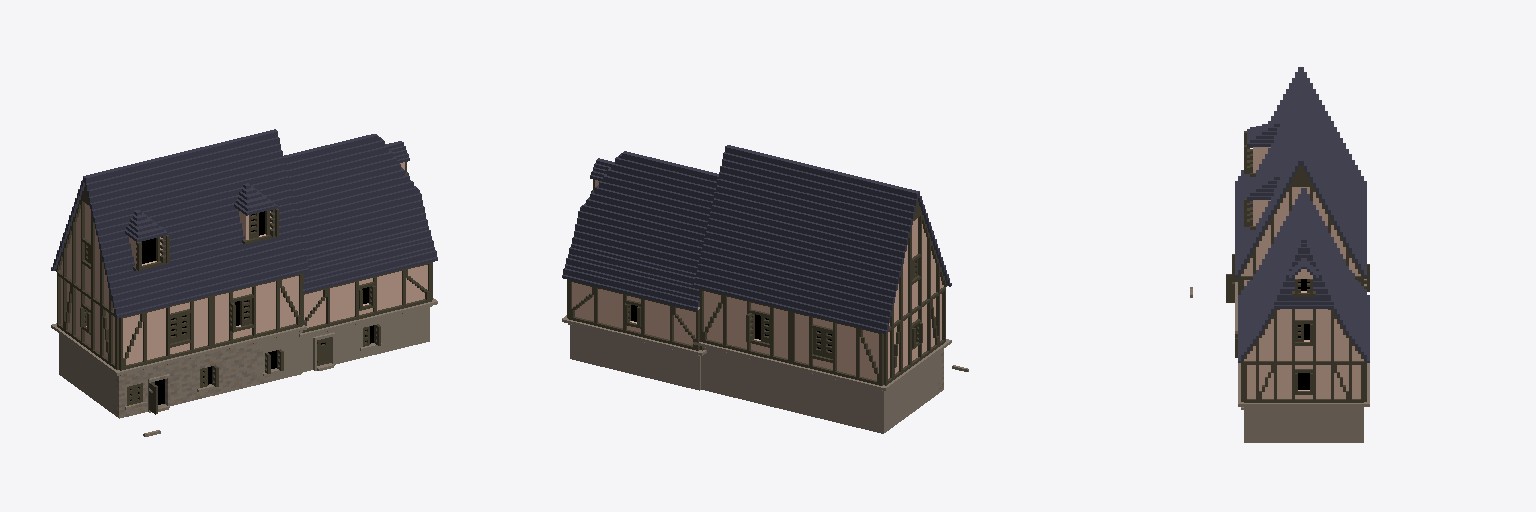
The picture shows the model from 3 angles: view 1: azimuth 30°, elevation 25°; view 2: azimuth 150°, elevation 25°; view 3: azimuth 270°, elevation 25°; orthographic projection.
Parts seen in each view (by area): view 1: object 1; view 2: object 1; view 3: object 1.
Boxes of the visible parts, x1=… form: object 1: x1=51, y1=129, x2=437, y2=436; object 1: x1=562, y1=145, x2=968, y2=433; object 1: x1=1190, y1=67, x2=1369, y2=442.
Bounding box in the file's own units: 12.4 × 8.1 × 6.
1 materials, 1 textured.